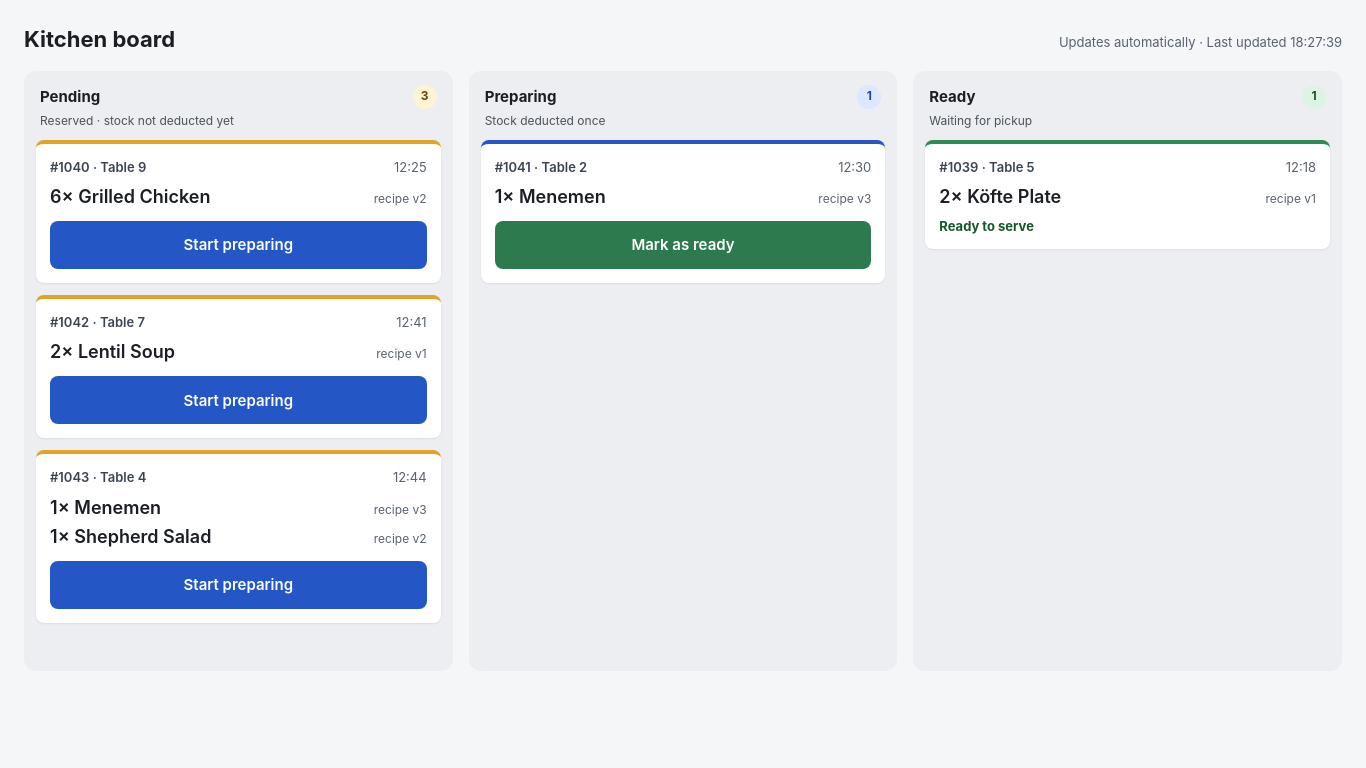
it: KitchenBoardPage › locks only the card whose status change is in progress
Expected: the element "Pending" is shown, x1=24 y1=71 x2=453 y2=671
Click the button with aria-label "Start preparing order #1042" at (238, 400), box x1=50 y1=376 x2=427 y2=424
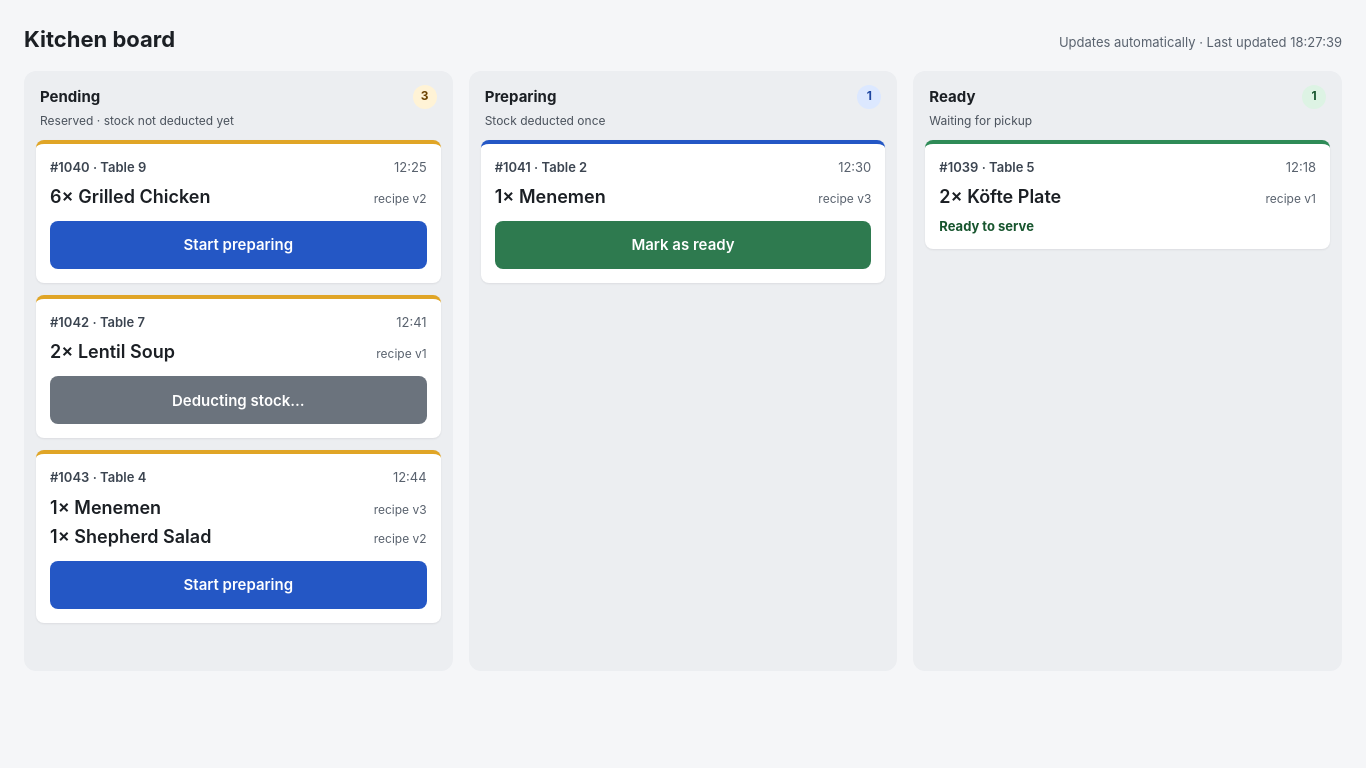
Expected: the button with aria-label "Start preparing order #1040" is enabled, x1=50 y1=221 x2=427 y2=269
Result: the button with aria-label "Deducting stock… order #1042" is disabled at x1=50 y1=376 x2=427 y2=424
Click the button with aria-label "Mark as ready order #1041" at (683, 245), box x1=495 y1=221 x2=871 y2=269
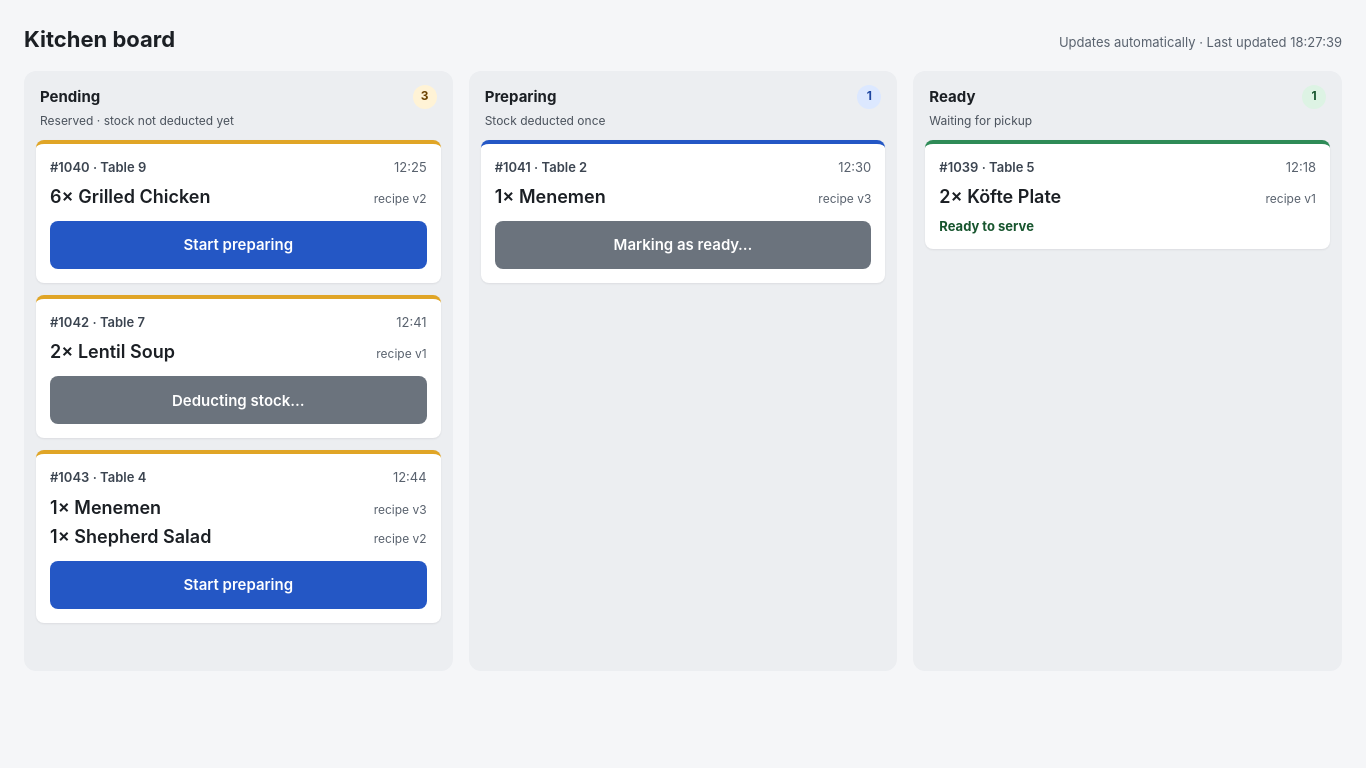
Expected: the button with aria-label "Start preparing order #1040" is enabled, x1=50 y1=221 x2=427 y2=269
Result: the button with aria-label "Marking as ready… order #1041" is disabled at x1=495 y1=221 x2=871 y2=269
